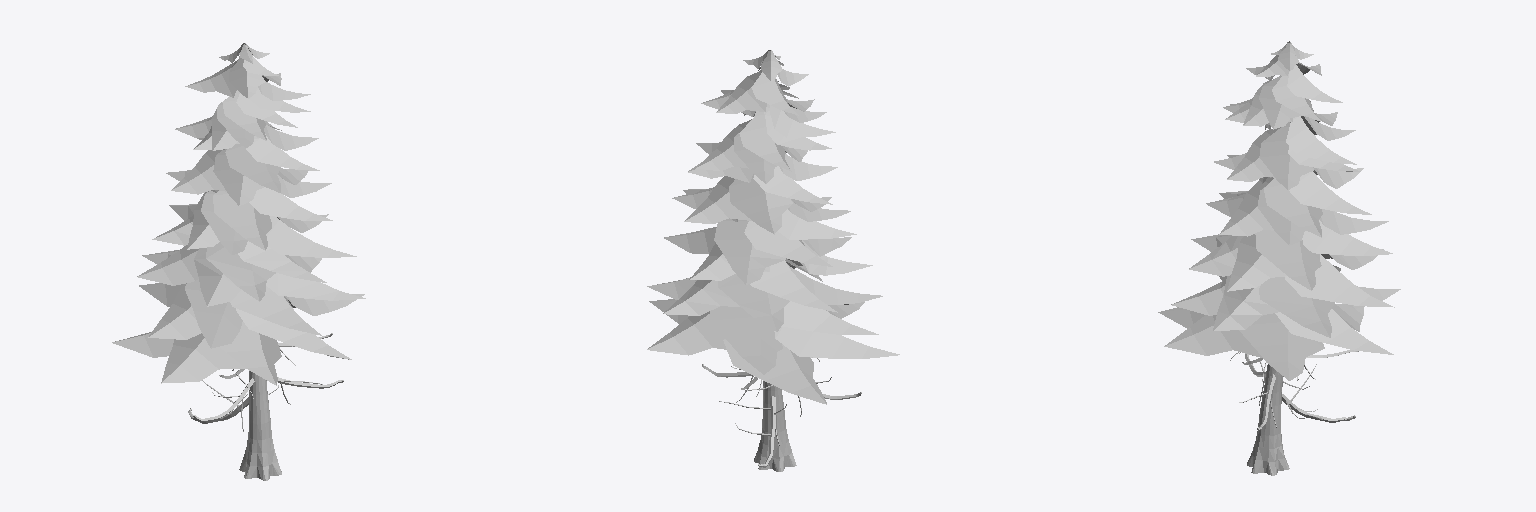
File: Pine_4.obj
3 views of the same model, side by side, from view 1: azimuth 30°, elevation 25°; view 2: azimuth 150°, elevation 25°; view 3: azimuth 270°, elevation 25° (orthographic).
Parts seen in each view (by area): view 1: Pine_4; view 2: Pine_4; view 3: Pine_4.
Part boxes in pixels (left/top/right/bottom): Pine_4: left=112, top=43, right=365, bottom=480; Pine_4: left=647, top=50, right=899, bottom=471; Pine_4: left=1158, top=41, right=1400, bottom=475.
Size of the model in its own units: 5.8 by 10.24 by 5.37.